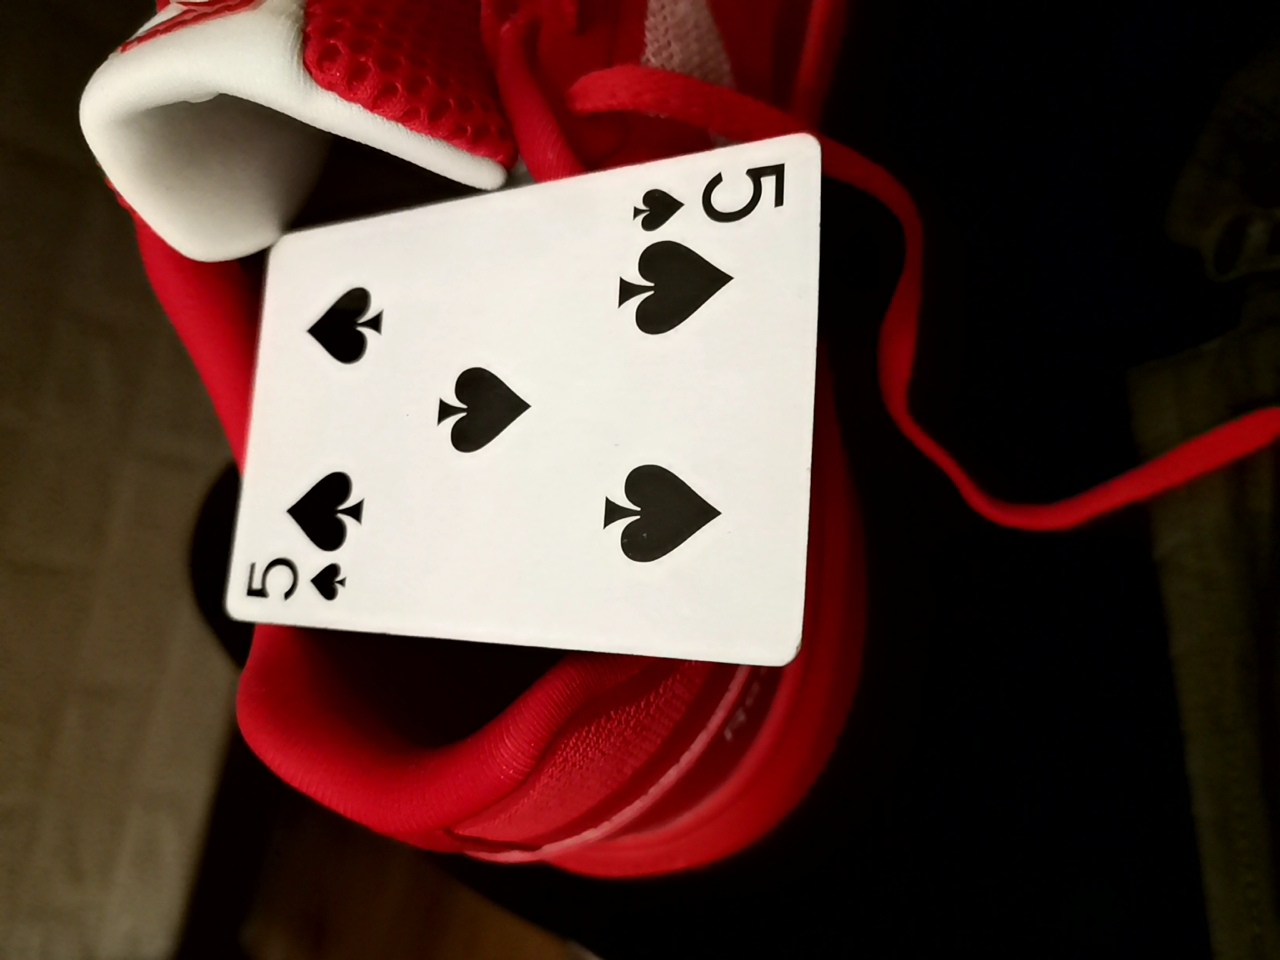ht 5: (223, 152, 822, 658)
